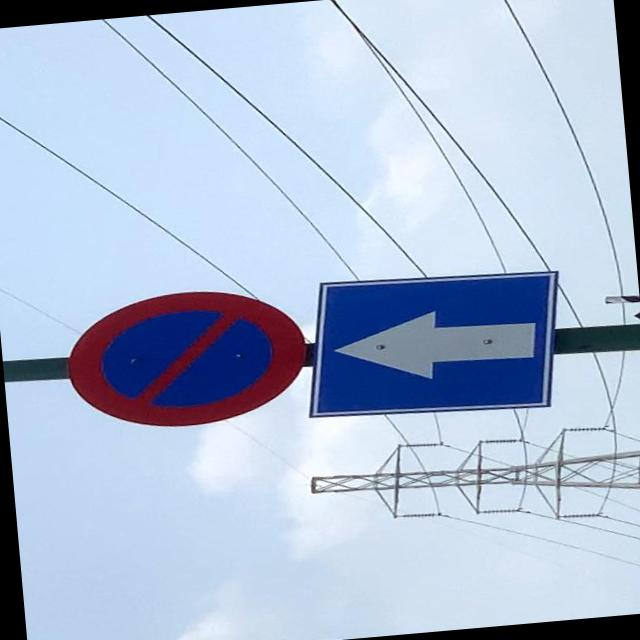I-407a: (304, 267, 565, 417)
P-131a: (62, 282, 308, 433)
